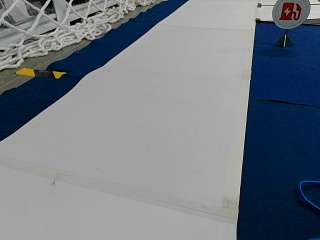battery: (271, 0, 311, 29)
